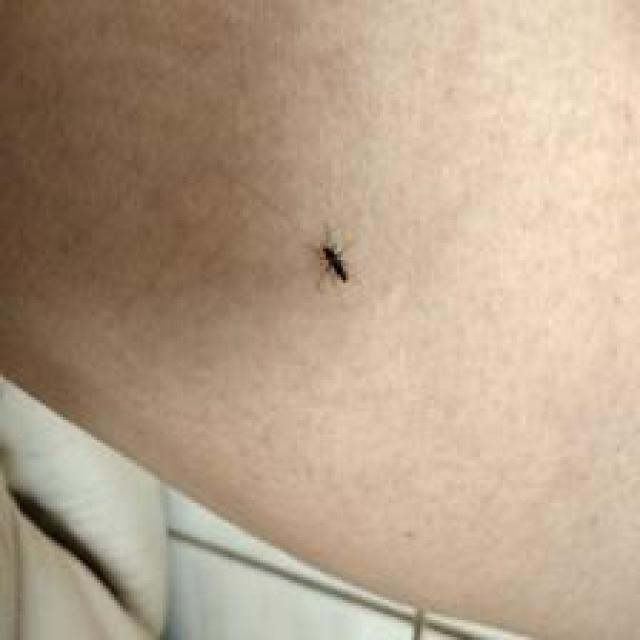Aedes albopictus: (317, 222, 349, 284)
